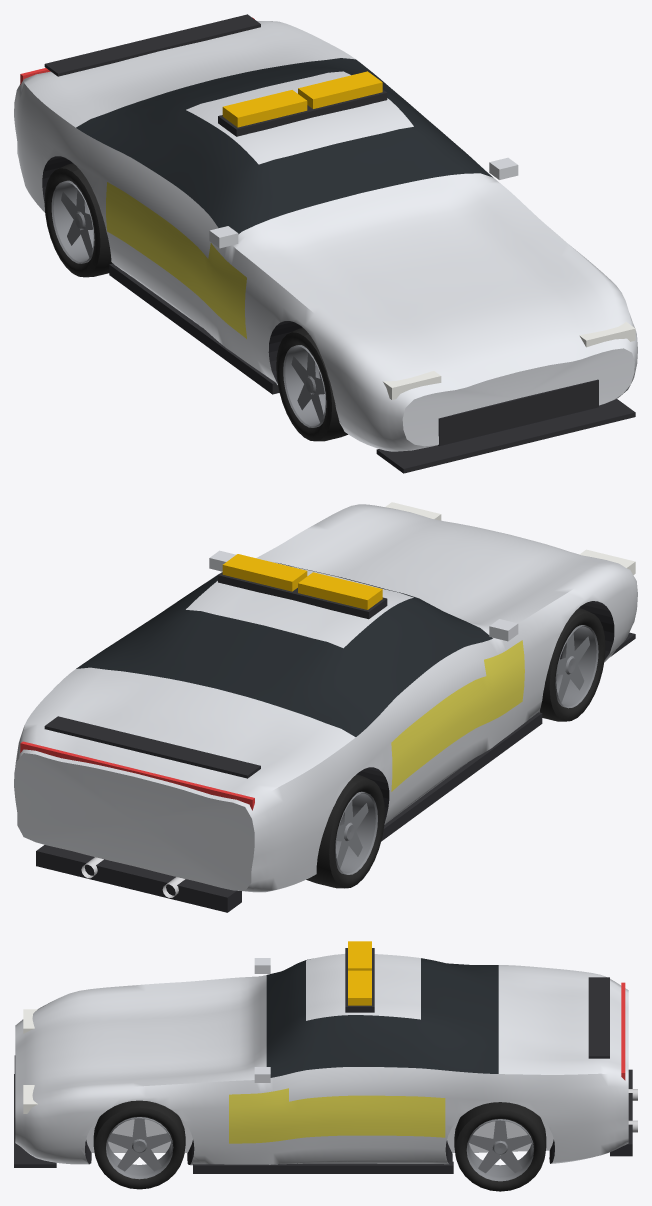
3 renders of one model, top to bottom at view 1: azimuth 30°, elevation 25°; view 2: azimuth 150°, elevation 25°; view 3: azimuth 270°, elevation 25°, orthographic. The views are drawn at different scales.
Parts seen in each view (by area): view 1: sc_body, sc_glass, sc_trim, sc_decal, sc_tyre_RR, sc_rim_FR, sc_rim_RR, sc_tyre_FR, sc_lampR, sc_lampL, sc_head; view 2: sc_body, sc_glass, sc_trim, sc_decal, sc_tyre_RR, sc_rim_FR, sc_rim_RR, sc_tyre_FR, sc_lampR, sc_lampL, sc_tail, sc_head; view 3: sc_body, sc_glass, sc_decal, sc_trim, sc_tyre_RL, sc_tyre_FL, sc_rim_RL, sc_rim_FL, sc_lampL, sc_lampR, sc_head, sc_tail.
Boxes of the visible parts, x1,y1,x2,y2 form: sc_body: [14, 21, 637, 451]; sc_glass: [76, 58, 492, 234]; sc_trim: [42, 14, 635, 473]; sc_decal: [106, 182, 246, 338]; sc_tyre_RR: [44, 163, 112, 277]; sc_rim_FR: [283, 345, 326, 427]; sc_rim_RR: [51, 180, 94, 263]; sc_tyre_FR: [276, 328, 348, 441]; sc_lampR: [222, 90, 307, 127]; sc_lampL: [298, 71, 382, 108]; sc_head: [383, 322, 635, 399]; sc_body: [14, 504, 637, 892]; sc_glass: [76, 563, 492, 736]; sc_trim: [36, 572, 635, 912]; sc_decal: [391, 640, 524, 791]; sc_tyre_RR: [306, 774, 384, 888]; sc_rim_FR: [555, 625, 598, 708]; sc_rim_RR: [335, 791, 377, 874]; sc_tyre_FR: [539, 608, 605, 721]; sc_lampR: [298, 572, 382, 609]; sc_lampL: [222, 554, 307, 591]; sc_tail: [20, 741, 254, 810]; sc_head: [385, 502, 635, 574]; sc_body: [15, 954, 628, 1165]; sc_glass: [266, 958, 498, 1077]; sc_decal: [229, 1088, 445, 1143]; sc_trim: [14, 948, 632, 1173]; sc_tyre_RL: [454, 1102, 546, 1191]; sc_tyre_FL: [93, 1100, 185, 1189]; sc_rim_RL: [466, 1119, 533, 1181]; sc_rim_FL: [106, 1117, 173, 1179]; sc_lampL: [348, 970, 371, 1005]; sc_lampR: [348, 941, 371, 970]; sc_head: [23, 1009, 37, 1113]; sc_tail: [621, 982, 625, 1080].
Size of the model in its own units: 2.06 by 1.38 by 4.67.
